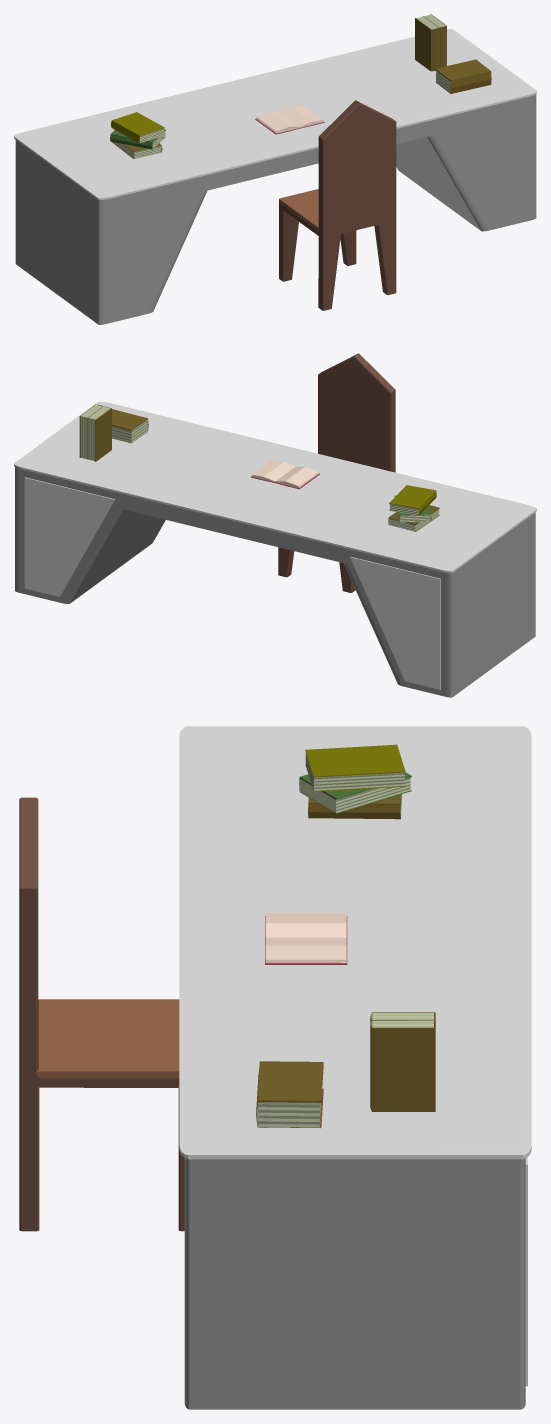
File: yazaralaniV5.fbx
3 renders of one model, top to bottom at view 1: azimuth 30°, elevation 25°; view 2: azimuth 150°, elevation 25°; view 3: azimuth 270°, elevation 25°, orthographic. The views are drawn at different scales.
Visible parts, largest first — view 1: Cube.021, Cube.003, Cube.020, kitap2.016, Cube.016, Cube.023, kitap2.004, Cube.022, kitap2.011, kitap2.010; view 2: Cube.003, Cube.021, Plane, Cube.020, Cube.016, kitap2.011, kitap2.004, kitap2.016, kitap2.015, kitap2.002, kitap2.003; view 3: Cube.003, Cube.021, Cube.022, Cube.020, kitap2.001, Cube.016, kitap2.016, kitap2.011, kitap2.015, kitap2.009, kitap2.012, kitap2.007.
Boxes of the visible parts, x1,y1,x2,y2 form: Cube.021: (15,94,536,324); Cube.003: (14,29,536,199); Cube.020: (279,100,396,310); kitap2.016: (435,59,491,93); Cube.016: (256,105,323,133); Cube.023: (284,211,355,281); kitap2.004: (415,16,438,71); Cube.022: (279,189,318,230); kitap2.011: (111,112,164,143); kitap2.010: (110,129,165,149); Cube.003: (14,401,536,572); Cube.021: (15,467,535,697); Plane: (24,477,440,689); Cube.020: (278,353,395,592); Cube.016: (252,460,318,488); kitap2.011: (389,485,436,515); kitap2.004: (88,406,111,461); kitap2.016: (112,409,148,443); kitap2.015: (112,419,148,442); kitap2.002: (80,404,102,459); kitap2.003: (88,406,110,460); Cube.003: (179,726,531,1158); Cube.021: (184,1158,525,1409); Cube.022: (36,999,179,1078); Cube.020: (19,797,184,1231); kitap2.001: (370,1020,435,1111); Cube.016: (265,913,346,962); kitap2.016: (256,1061,323,1127); kitap2.011: (305,744,405,791); kitap2.015: (256,1102,321,1127); kitap2.009: (299,777,410,812); kitap2.012: (305,752,405,790); kitap2.007: (308,794,401,819).
Bounding box in the file's own units: 494 × 424 × 977.
